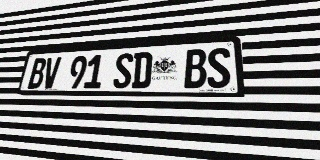1: (83, 54, 104, 88)
9: (67, 55, 88, 89)
B: (184, 49, 206, 88), (27, 58, 47, 89)
D: (131, 52, 153, 88)
S: (207, 47, 231, 88), (112, 53, 134, 88)
V: (41, 57, 61, 89)
